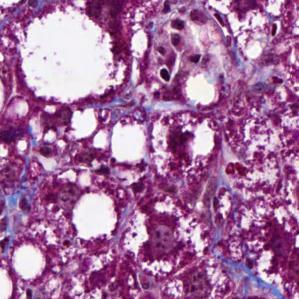inflammation: (160, 1, 189, 50), (160, 64, 173, 89), (189, 52, 205, 67)
